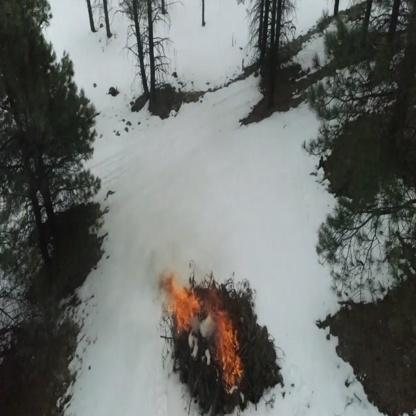Fire: (219, 314, 238, 393), (172, 294, 203, 313), (175, 293, 190, 332), (206, 290, 222, 315), (228, 359, 242, 384), (163, 279, 176, 291)
